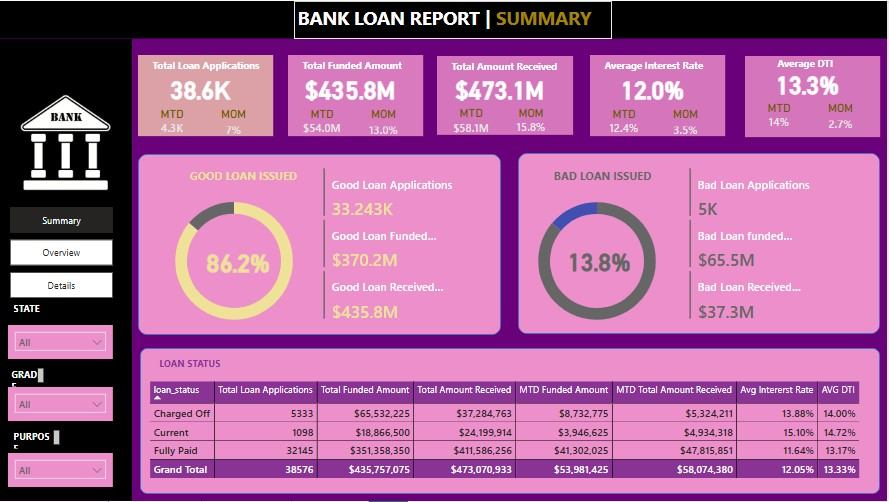

Layout of this report page (visuals, bound fields, positions):
{"tool":"powerbi","page":{"name":"Summary","canvas":[1280,720],"ordinal":0},"visuals":[{"type":"shape","box":[0,54.7,191.5,665.3],"z":0},{"type":"shape","box":[0,0,1280,54.2],"z":1000},{"type":"textbox","box":[425,0,457.1,54.2],"z":2000},{"type":"shape","box":[199.8,77.9,194.7,116.8],"z":3000,"group":"g1"},{"type":"shape","box":[416.5,77.9,194.7,116.8],"z":3000,"group":"g2"},{"type":"shape","box":[851.6,77.9,194.7,116.8],"z":3000,"group":"g4"},{"type":"shape","box":[630.7,79.2,196.4,113.5],"z":3000,"group":"g3"},{"type":"donutChart","fields":{"Category":["financial_loan.Good V Bad Loan"],"Y":["financial_loan.Total Loan Applications"]},"box":[236.2,236.2,250.6,230.4],"z":3000},{"type":"group","id":"g1","title":"Group 1","box":[199.8,77.9,194.7,120.2],"z":4000},{"type":"shape","box":[1074.2,78.7,194.7,116.8],"z":4000,"group":"g5"},{"type":"card","fields":{"Values":["financial_loan.Total Loan Applications"]},"box":[215,99.9,147.3,52.5],"z":4000,"group":"g1"},{"type":"card","fields":{"Values":["financial_loan.Total Funded Amount"]},"box":[431.7,99.9,147.3,52.5],"z":4000,"group":"g2"},{"type":"card","fields":{"Values":["financial_loan.Avg Intererst Rate"]},"box":[866.8,99.9,147.3,52.5],"z":4000,"group":"g4"},{"type":"card","fields":{"Values":["financial_loan.Total Amount Received"]},"box":[646.1,100.6,148.6,51],"z":4000,"group":"g3"},{"type":"card","fields":{"Values":["financial_loan.Bad Loan %"]},"box":[756,349.9,215.7,48.4],"z":4000,"group":"g7"},{"type":"card","fields":{"Values":["financial_loan.Good Loan %"]},"box":[236.2,351.4,215.7,48.4],"z":4000,"group":"g6"},{"type":"textbox","box":[215,77.9,179.5,42.3],"z":5000,"group":"g1"},{"type":"group","id":"g2","title":"Group 1","box":[416.5,77.9,194.7,120.2],"z":5000},{"type":"textbox","box":[431.7,77.9,179.5,42.3],"z":5000,"group":"g2"},{"type":"textbox","box":[866.8,77.9,179.5,42.3],"z":5000,"group":"g4"},{"type":"textbox","box":[646.1,79.2,181,41.1],"z":5000,"group":"g3"},{"type":"group","id":"g3","title":"Group 1","box":[630.7,79.2,196.4,117.8],"z":6000},{"type":"card","fields":{"Values":["financial_loan.AVG DTI"]},"box":[1089.4,92.2,147.3,52.5],"z":6000,"group":"g5"},{"type":"card","title":"MTD","fields":{"Values":["financial_loan.MTD Total Amount Received"]},"box":[646.1,151.6,66.6,44.4],"z":6000,"group":"g3"},{"type":"card","title":"MTD","fields":{"Values":["financial_loan.MTD Loan Applications"]},"box":[215,152.4,66,45.7],"z":6000,"group":"g1"},{"type":"card","title":"MTD","fields":{"Values":["financial_loan.MTD Funded Amount"]},"box":[431.7,152.4,66,45.7],"z":6000,"group":"g2"},{"type":"card","title":"MTD","fields":{"Values":["financial_loan.MTD Avg Int Rate"]},"box":[866.8,152.4,66,45.7],"z":6000,"group":"g4"},{"type":"group","id":"g4","title":"Group 1","box":[851.6,77.9,194.7,120.2],"z":7000},{"type":"card","title":"MOM","fields":{"Values":["financial_loan.MOM Total Amount Received"]},"box":[720.4,150.9,92.2,46.1],"z":7000,"group":"g3"},{"type":"card","title":"MOM","fields":{"Values":["financial_loan.MOM Loan Application"]},"box":[289.5,152.4,96.5,42.3],"z":7000,"group":"g1"},{"type":"card","title":"MOM","fields":{"Values":["financial_loan.MOM Total Funded Amount"]},"box":[506.2,152.4,96.5,42.3],"z":7000,"group":"g2"},{"type":"card","title":"MOM","fields":{"Values":["financial_loan.MOM Avg Interest Rate"]},"box":[941.3,152.4,96.5,42.3],"z":7000,"group":"g4"},{"type":"group","id":"g5","title":"Group 2","box":[1074.2,74.9,194.4,119.5],"z":8000},{"type":"textbox","box":[1088.8,74.9,179.5,44],"z":8000,"group":"g5"},{"type":"shape","box":[747.4,218.9,521.3,260.6],"z":9000},{"type":"card","title":"MTD","fields":{"Values":["financial_loan.MTD Avg DTI"]},"box":[1089.4,144.7,66,45.7],"z":10000,"group":"g5"},{"type":"shape","box":[200.2,220.3,522.7,260.6],"z":10000},{"type":"card","title":"MOM","fields":{"Values":["financial_loan.MOM Avg DTI"]},"box":[1163.9,144.7,96.5,42.3],"z":11000,"group":"g5"},{"type":"donutChart","fields":{"Category":["financial_loan.Good V Bad Loan"],"Y":["financial_loan.Total Loan Applications"]},"box":[227.5,259.2,221.8,230],"z":11000},{"type":"group","id":"g6","title":"Group 1","box":[236.2,351.4,216,49],"z":12000},{"type":"textbox","box":[247.7,236.2,201.6,44.6],"z":13000},{"type":"cardVisual","fields":{"Data":["financial_loan.Good Loan Applications","financial_loan.Good Loan Funded Amount","financial_loan.Good Loan Received Amount"]},"box":[462.2,236.2,223.2,229],"z":14000},{"type":"donutChart","fields":{"Category":["financial_loan.Good V Bad Loan"],"Y":["financial_loan.Total Loan Applications"]},"box":[750.2,259.2,221.8,230.4],"z":15000},{"type":"shape","box":[203,499.7,1065.6,210.2],"z":16000},{"type":"group","id":"g7","title":"Group 1","box":[756,349.9,216,49],"z":17000},{"type":"tableEx","fields":{"Values":["financial_loan.loan_status","financial_loan.Total Loan Applications","financial_loan.Total Funded Amount","financial_loan.Total Amount Received","financial_loan.MTD Funded Amount","financial_loan.MTD Total Amount Received","financial_loan.Avg Intererst Rate","financial_loan.AVG DTI"]},"box":[211.7,542.9,1048.3,177.1],"z":18000},{"type":"textbox","box":[771.8,236.2,201.6,44.6],"z":19000},{"type":"cardVisual","fields":{"Data":["financial_loan.Bad Loan Applications","financial_loan.Bad Loan funded applications","financial_loan.Bad Loan Received Amount"]},"box":[989.3,236.2,223.2,229],"z":20000},{"type":"textbox","box":[226.1,508.3,112.3,34.6],"z":21000},{"type":"slicer","fields":{"Values":["financial_loan.address_state"]},"box":[13,466.6,151.2,49],"z":22000},{"type":"textbox","box":[15.8,429.1,69.1,36],"z":23000},{"type":"slicer","fields":{"Values":["financial_loan.grade"]},"box":[13,555.8,151.2,49],"z":24000},{"type":"slicer","fields":{"Values":["financial_loan.purpose"]},"box":[13,650.9,151.2,49],"z":25000},{"type":"textbox","box":[15.8,613.4,76.3,36],"z":26000},{"type":"textbox","box":[13,524.2,56.2,36],"z":27000},{"type":"image","box":[0,64.8,191.5,277.9],"z":28000},{"type":"pageNavigator","box":[15.8,296.6,148.3,132.5],"z":29000}]}

Visuals, with their boxes on the page's 1280x720 design canvas (x1, y1, x2, y2). These are canvas units, not pixel positions in the 889x502 screenshot, which may show the page scaled, cropped or inside an application window:
shape: x1=0, y1=55, x2=192, y2=720
shape: x1=0, y1=0, x2=1280, y2=54
textbox: x1=425, y1=0, x2=882, y2=54
shape: x1=200, y1=78, x2=394, y2=195
shape: x1=416, y1=78, x2=611, y2=195
shape: x1=852, y1=78, x2=1046, y2=195
shape: x1=631, y1=79, x2=827, y2=193
donutChart - financial_loan.Good V Bad Loan x financial_loan.Total Loan Applications: x1=236, y1=236, x2=487, y2=467
"Group 1" group: x1=200, y1=78, x2=394, y2=198
shape: x1=1074, y1=79, x2=1269, y2=196
card - financial_loan.Total Loan Applications: x1=215, y1=100, x2=362, y2=152
card - financial_loan.Total Funded Amount: x1=432, y1=100, x2=579, y2=152
card - financial_loan.Avg Intererst Rate: x1=867, y1=100, x2=1014, y2=152
card - financial_loan.Total Amount Received: x1=646, y1=101, x2=795, y2=152
card - financial_loan.Bad Loan %: x1=756, y1=350, x2=972, y2=398
card - financial_loan.Good Loan %: x1=236, y1=351, x2=452, y2=400
textbox: x1=215, y1=78, x2=394, y2=120
"Group 1" group: x1=416, y1=78, x2=611, y2=198
textbox: x1=432, y1=78, x2=611, y2=120
textbox: x1=867, y1=78, x2=1046, y2=120
textbox: x1=646, y1=79, x2=827, y2=120
"Group 1" group: x1=631, y1=79, x2=827, y2=197
card - financial_loan.AVG DTI: x1=1089, y1=92, x2=1237, y2=145
"MTD" card: x1=646, y1=152, x2=713, y2=196
"MTD" card: x1=215, y1=152, x2=281, y2=198
"MTD" card: x1=432, y1=152, x2=498, y2=198
"MTD" card: x1=867, y1=152, x2=933, y2=198
"Group 1" group: x1=852, y1=78, x2=1046, y2=198
"MOM" card: x1=720, y1=151, x2=813, y2=197
"MOM" card: x1=290, y1=152, x2=386, y2=195
"MOM" card: x1=506, y1=152, x2=603, y2=195
"MOM" card: x1=941, y1=152, x2=1038, y2=195
"Group 2" group: x1=1074, y1=75, x2=1269, y2=194
textbox: x1=1089, y1=75, x2=1268, y2=119
shape: x1=747, y1=219, x2=1269, y2=480
"MTD" card: x1=1089, y1=145, x2=1155, y2=190
shape: x1=200, y1=220, x2=723, y2=481
"MOM" card: x1=1164, y1=145, x2=1260, y2=187
donutChart - financial_loan.Good V Bad Loan x financial_loan.Total Loan Applications: x1=228, y1=259, x2=449, y2=489
"Group 1" group: x1=236, y1=351, x2=452, y2=400
textbox: x1=248, y1=236, x2=449, y2=281
cardVisual - financial_loan.Good Loan Applications x financial_loan.Good Loan Funded Amount: x1=462, y1=236, x2=685, y2=465
donutChart - financial_loan.Good V Bad Loan x financial_loan.Total Loan Applications: x1=750, y1=259, x2=972, y2=490
shape: x1=203, y1=500, x2=1269, y2=710
"Group 1" group: x1=756, y1=350, x2=972, y2=399
tableEx - financial_loan.loan_status x financial_loan.Total Loan Applications: x1=212, y1=543, x2=1260, y2=720
textbox: x1=772, y1=236, x2=973, y2=281
cardVisual - financial_loan.Bad Loan Applications x financial_loan.Bad Loan funded applications: x1=989, y1=236, x2=1212, y2=465
textbox: x1=226, y1=508, x2=338, y2=543
slicer - financial_loan.address_state: x1=13, y1=467, x2=164, y2=516
textbox: x1=16, y1=429, x2=85, y2=465
slicer - financial_loan.grade: x1=13, y1=556, x2=164, y2=605
slicer - financial_loan.purpose: x1=13, y1=651, x2=164, y2=700
textbox: x1=16, y1=613, x2=92, y2=649
textbox: x1=13, y1=524, x2=69, y2=560
image: x1=0, y1=65, x2=192, y2=343
pageNavigator: x1=16, y1=297, x2=164, y2=429
